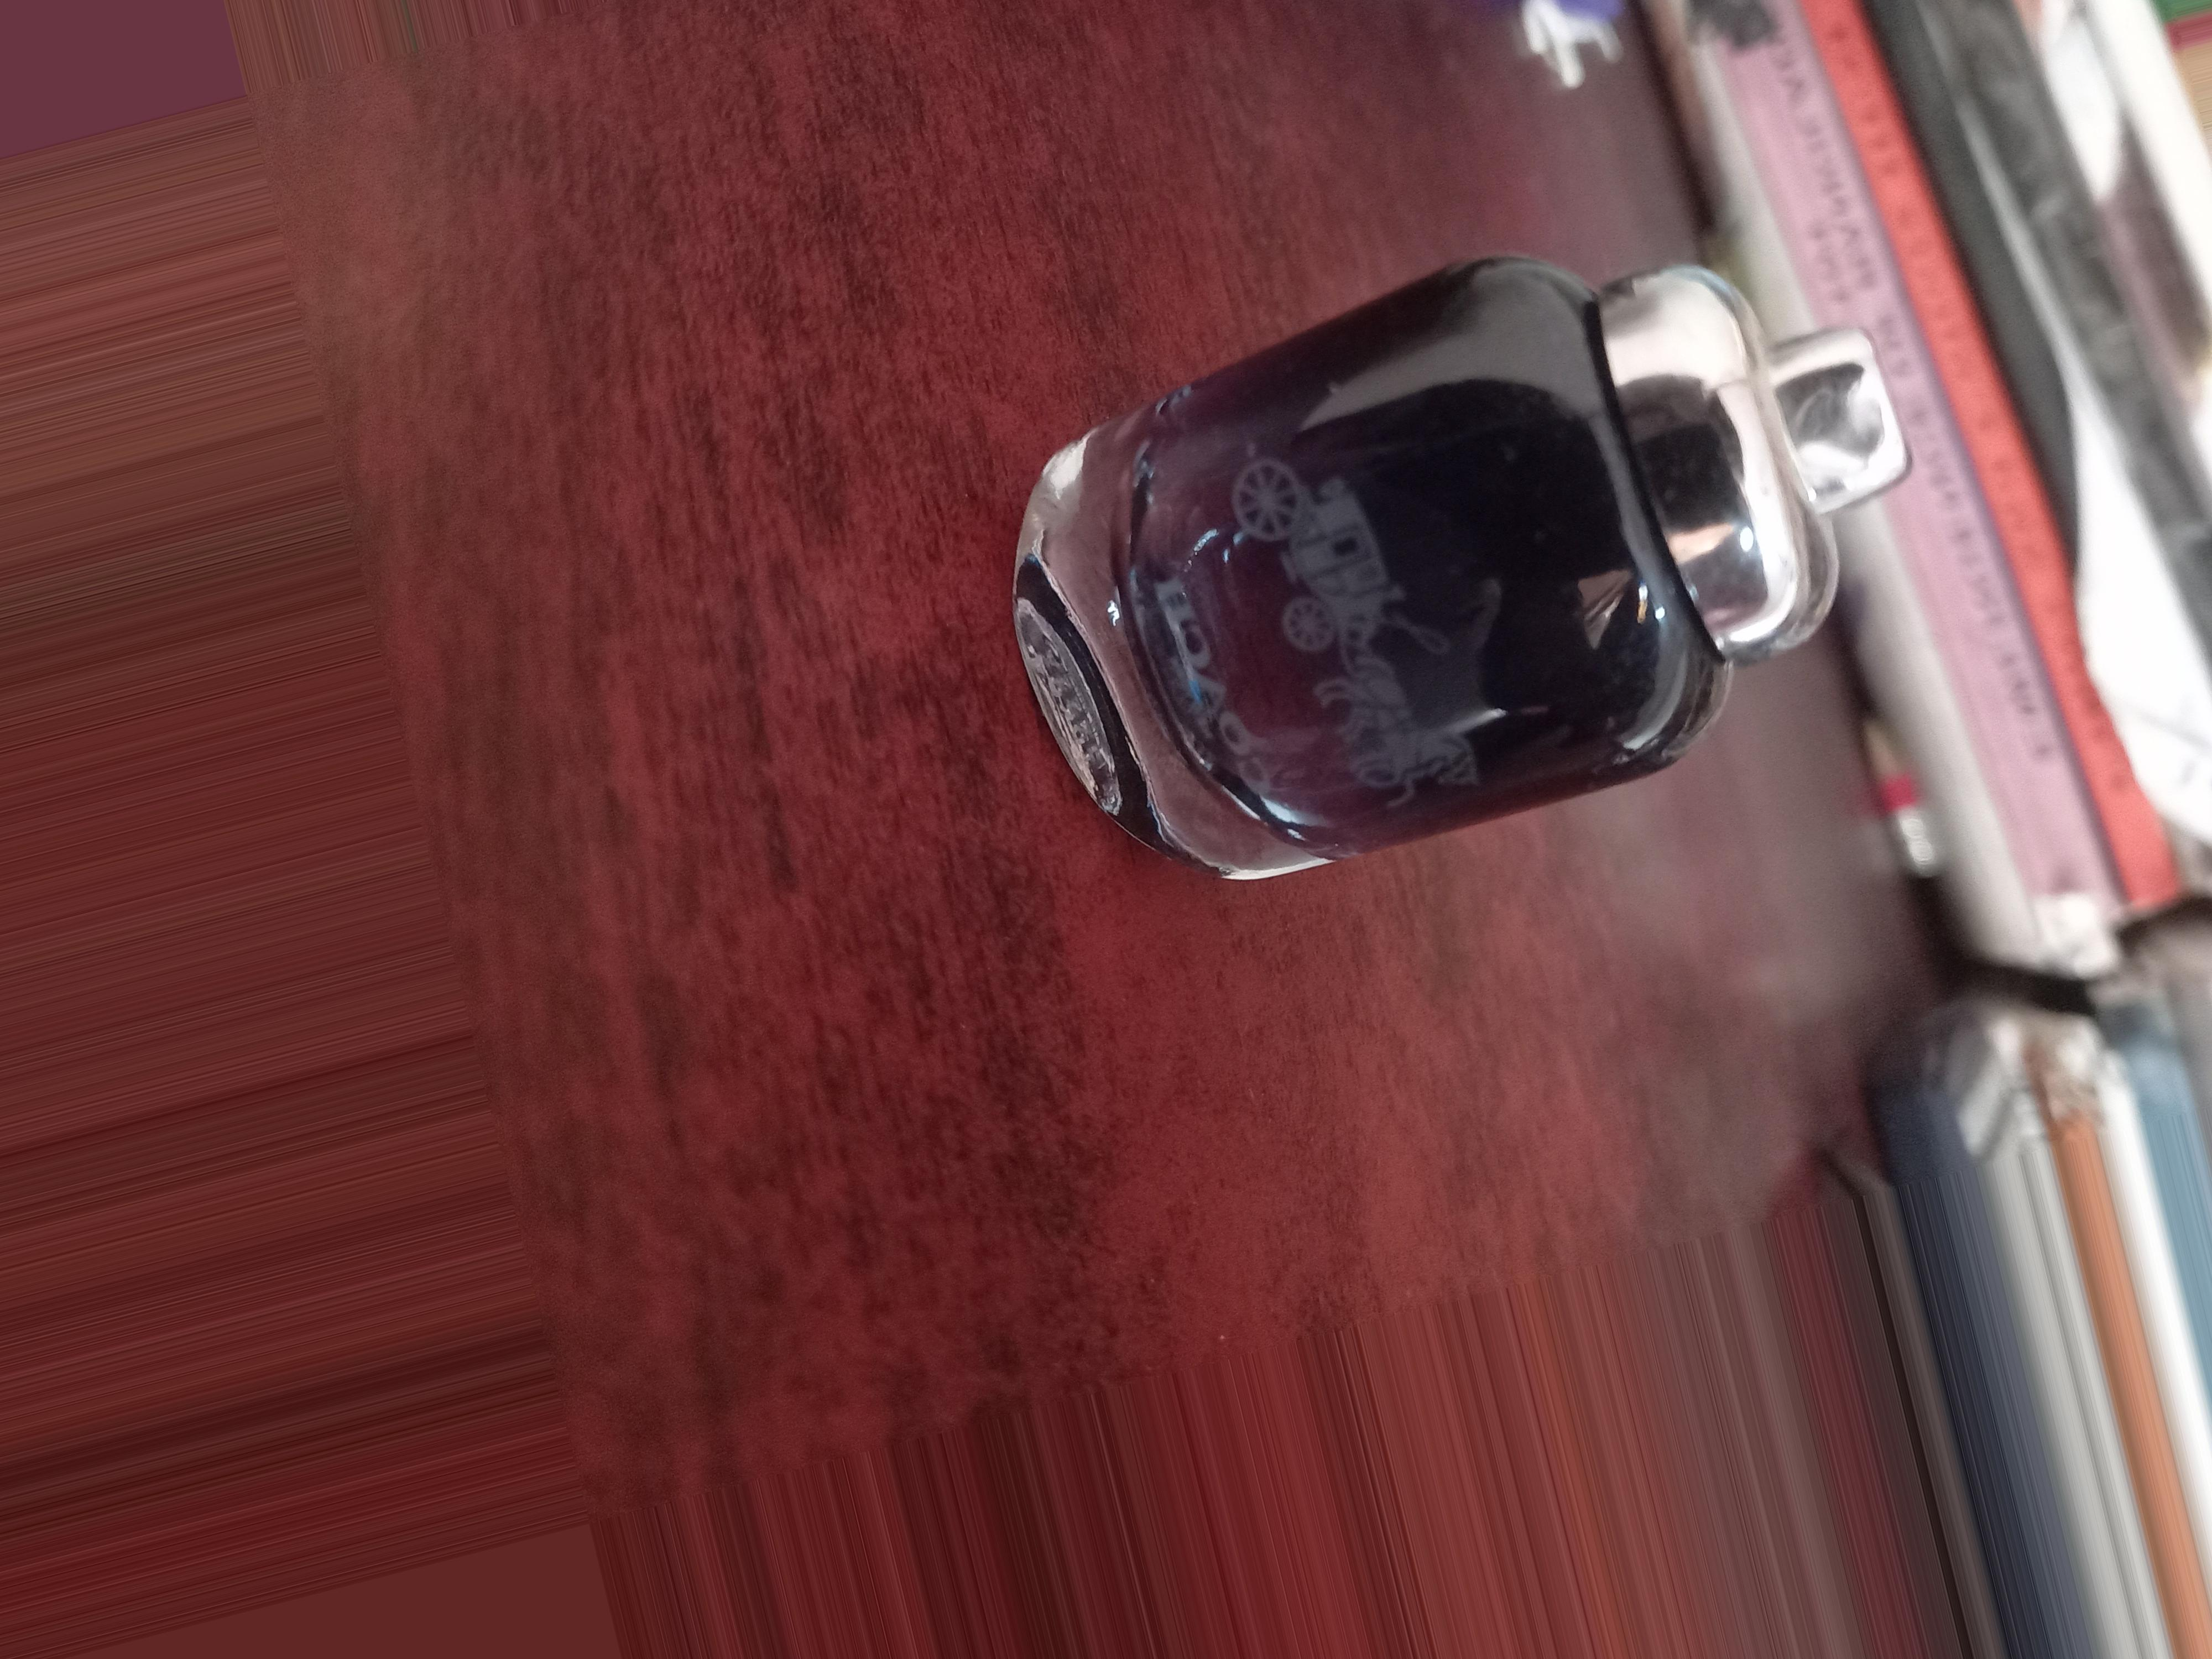perfume: (1125, 305, 1844, 985)
